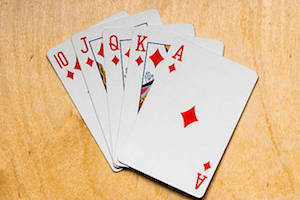AceOfDiamonds: (159, 37, 263, 200)
JackOfDiamonds: (77, 32, 109, 86)
KingOfDiamonds: (129, 29, 170, 129)
QueenOfDiamonds: (104, 21, 133, 118)
TenOfDiamonds: (45, 46, 86, 94)
